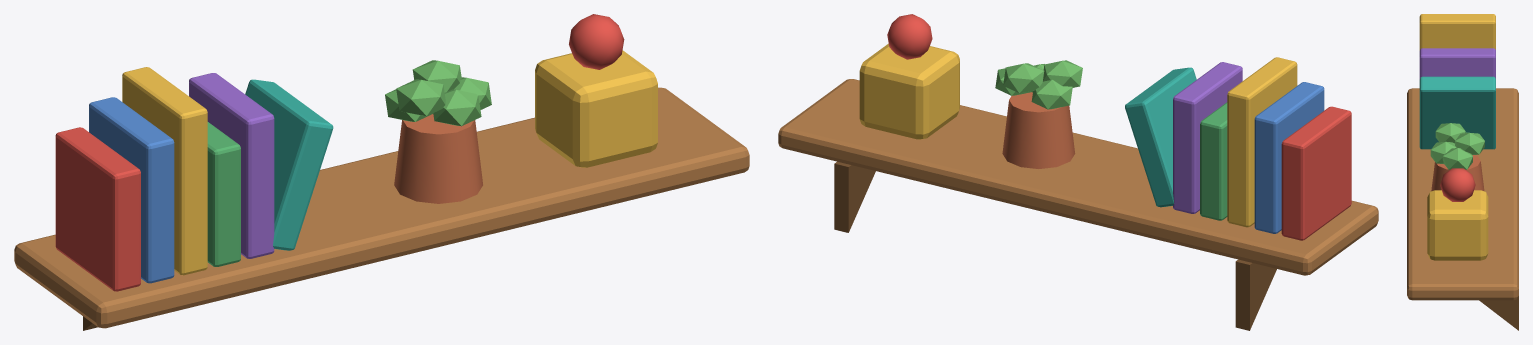
File: prateleira.glb
3 renders of one model, left to right at view 1: azimuth 30°, elevation 25°; view 2: azimuth 150°, elevation 25°; view 3: azimuth 270°, elevation 25°, orthographic. The views are drawn at different scales.
Parts seen in each view (by area): view 1: prateleira; view 2: prateleira; view 3: prateleira.
Part boxes in pixels (x1,y1,x2,y2): prateleira: (14,14,749,330); prateleira: (778,14,1378,330); prateleira: (1407,14,1518,330).
Size of the model in its own units: 1.86 by 0.73 by 0.44.
